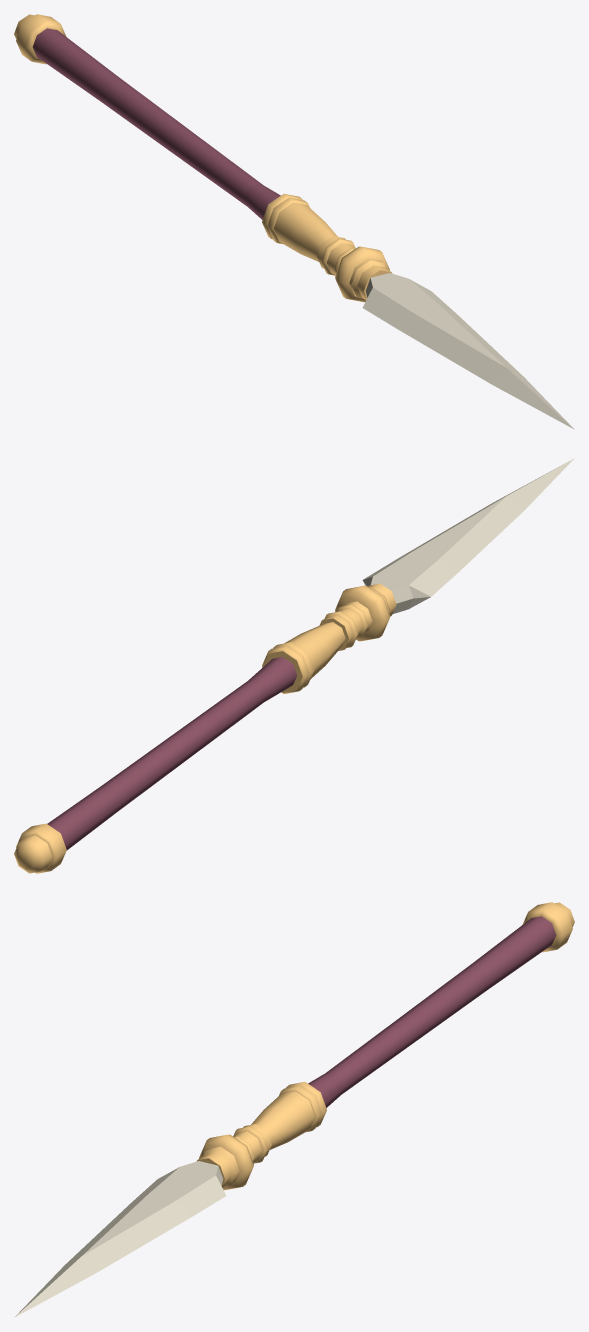
Rendered from Spear_Idle.fbx.
3 renders of one model, top to bottom at view 1: azimuth 30°, elevation 25°; view 2: azimuth 150°, elevation 25°; view 3: azimuth 330°, elevation 25°, orthographic.
Visible parts, largest first — view 1: Spear_1; view 2: Spear_1; view 3: Spear_1.
Boxes of the visible parts, box(x1,y1,x2,y2) form: Spear_1: box(14, 14, 574, 429); Spear_1: box(14, 458, 574, 873); Spear_1: box(14, 902, 574, 1317).
Size of the model in its own units: 42.16 by 31.3 by 581.
